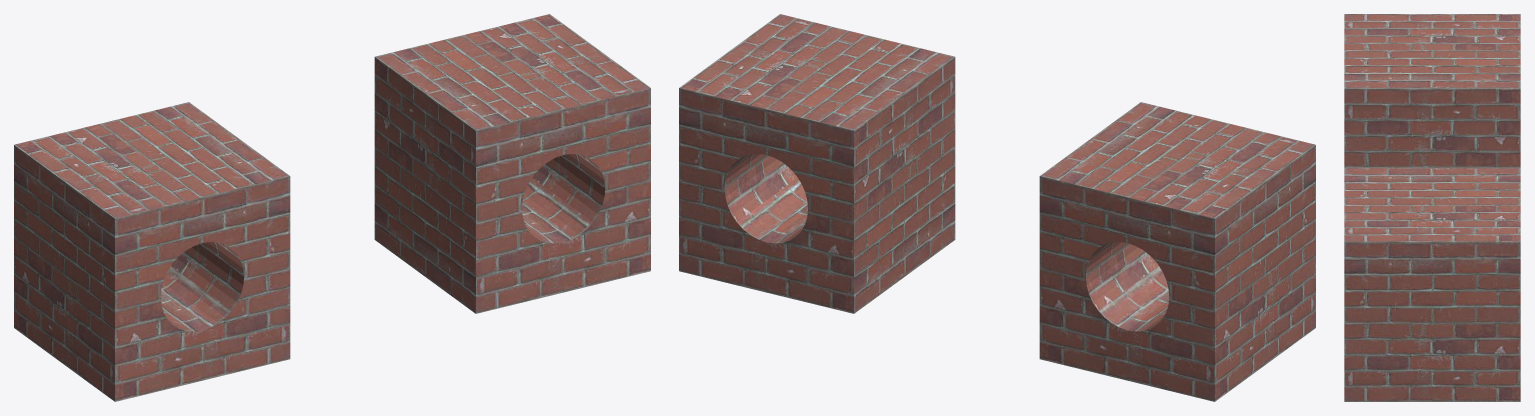
The picture shows the model from 3 angles, left to right: view 1: azimuth 30°, elevation 25°; view 2: azimuth 150°, elevation 25°; view 3: azimuth 270°, elevation 25°; orthographic projection. The views are drawn at different scales.
Parts seen in each view (by area): view 1: Cube; view 2: Cube; view 3: Cube.
Boxes of the visible parts, bbox=[...] form: Cube: bbox=[14, 14, 650, 401]; Cube: bbox=[679, 14, 1315, 401]; Cube: bbox=[1344, 14, 1520, 401].
Bounding box in the file's own units: 6.12 × 2 × 2.
1 material, 1 textured.
